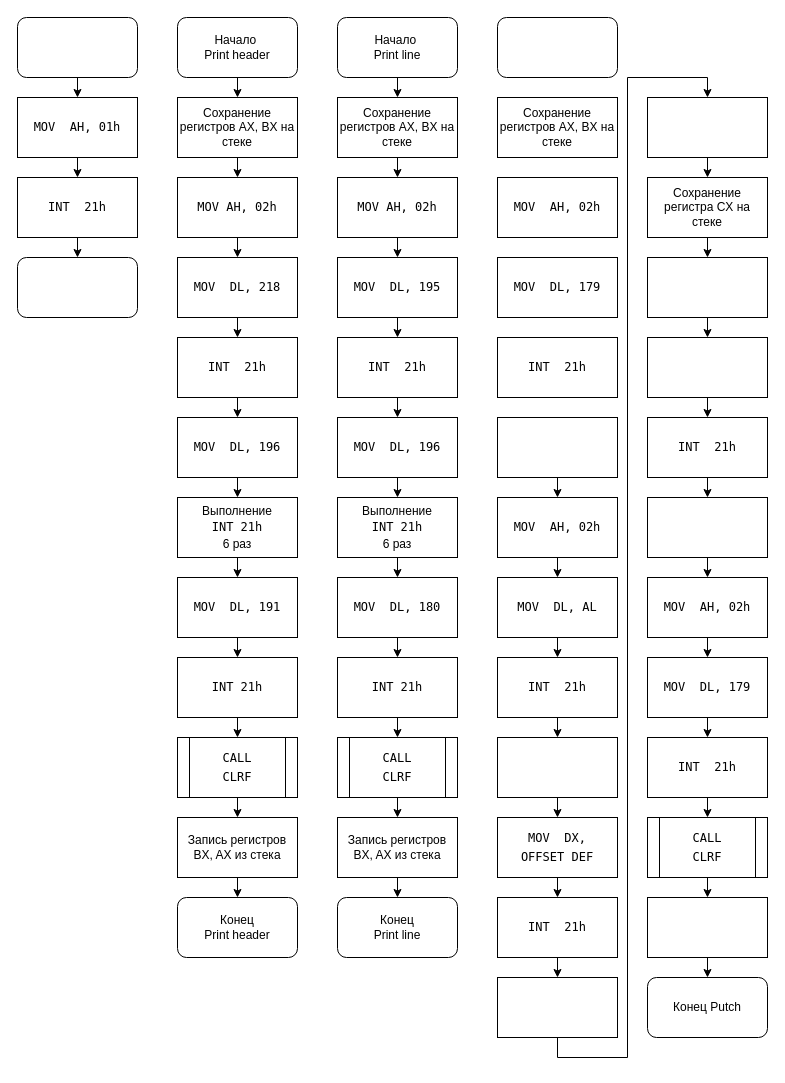
Image size: 785x1083. Some labels were removed from this diagram. Here are the shapes that lost their labels. From the top down, the centre of each, then its label:
At [77,47]: "Начало Getch".
At [557,47]: "Начало Putch".
At [707,127]: "MOV BX , 1".
At [77,287]: "Конец Getch".
At [707,287]: "MOV CX , 2".
At [707,367]: "MOV DX , OFFSET HEXDGT".
At [557,447]: "Удаление и сохранение регистров AX, BX на стеке".
At [707,527]: "Удаление регистра СX на стеке".
At [557,767]: "MOV AH , 09h".
At [707,927]: "Удаление регистров AX, BX на стеке".
At [557,1007]: "MOV AH , 40h".
